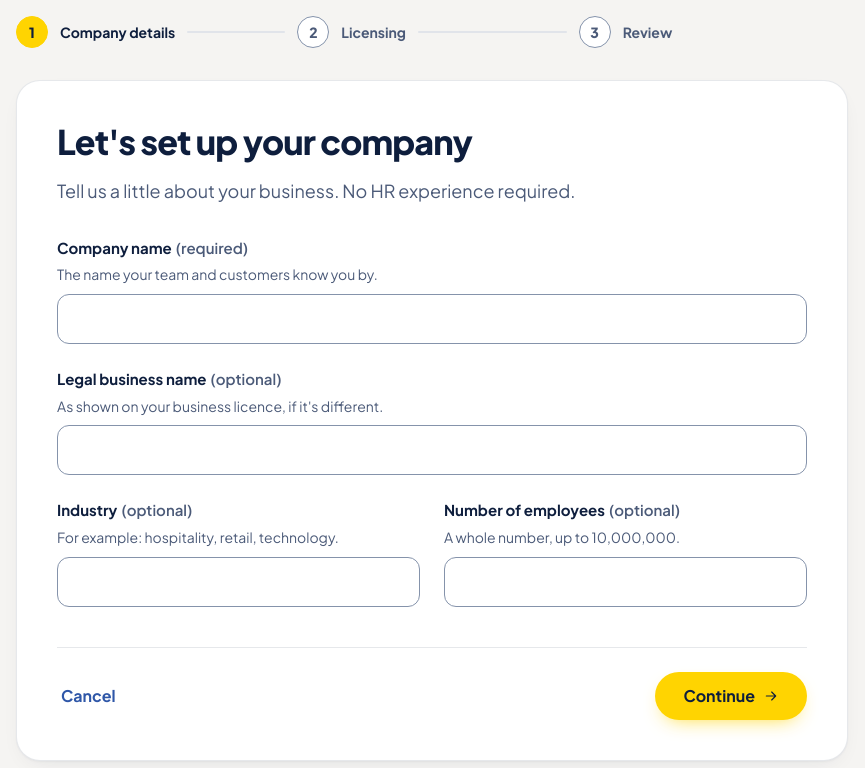
it: OnboardingWizard: licensing (step 2) › keeps the draft when going back and forward
In the field labelled "Company name(required)": (432, 319) [57,294,807,344], type "Gamma Trading"
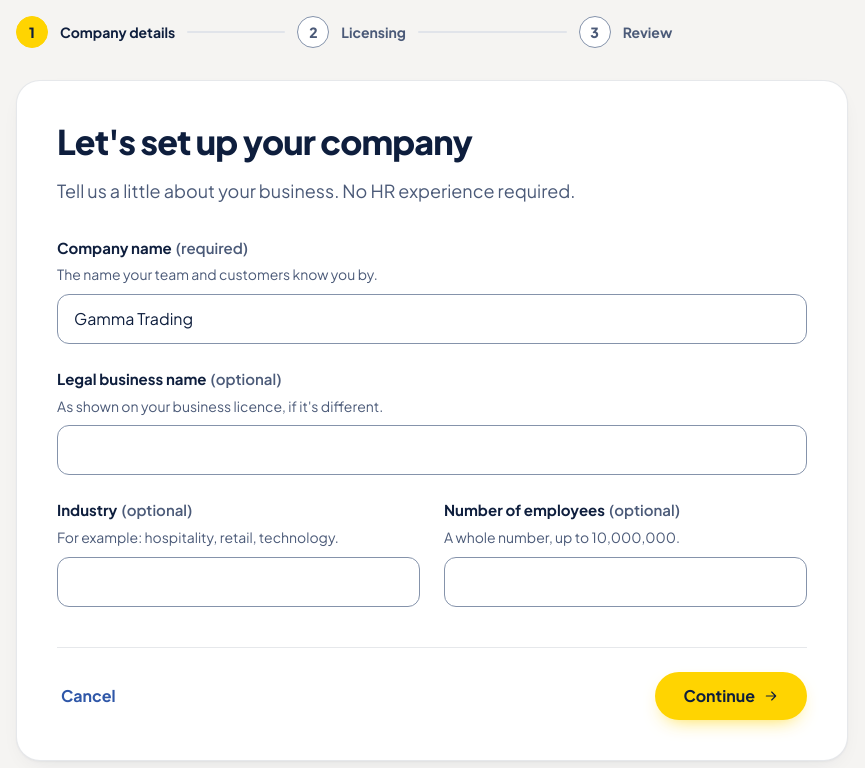
In the field labelled "Legal business name(optional)": (432, 450) [57,425,807,475], type "Gamma Trading FZ-LLC"
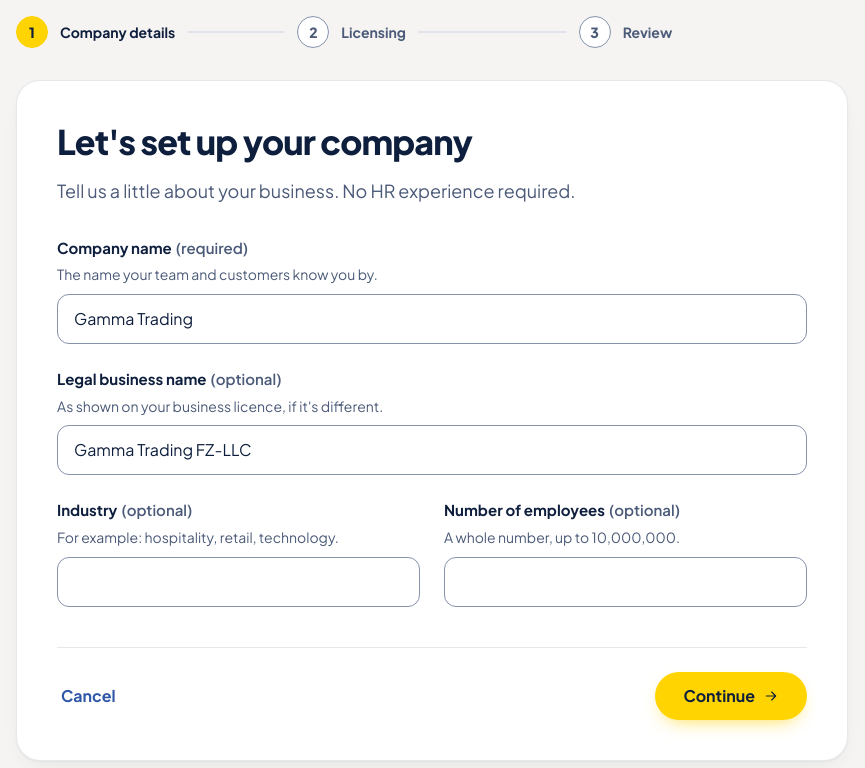
In the field labelled "Number of employees(optional)": (626, 582) [444,556,807,606], type "12"
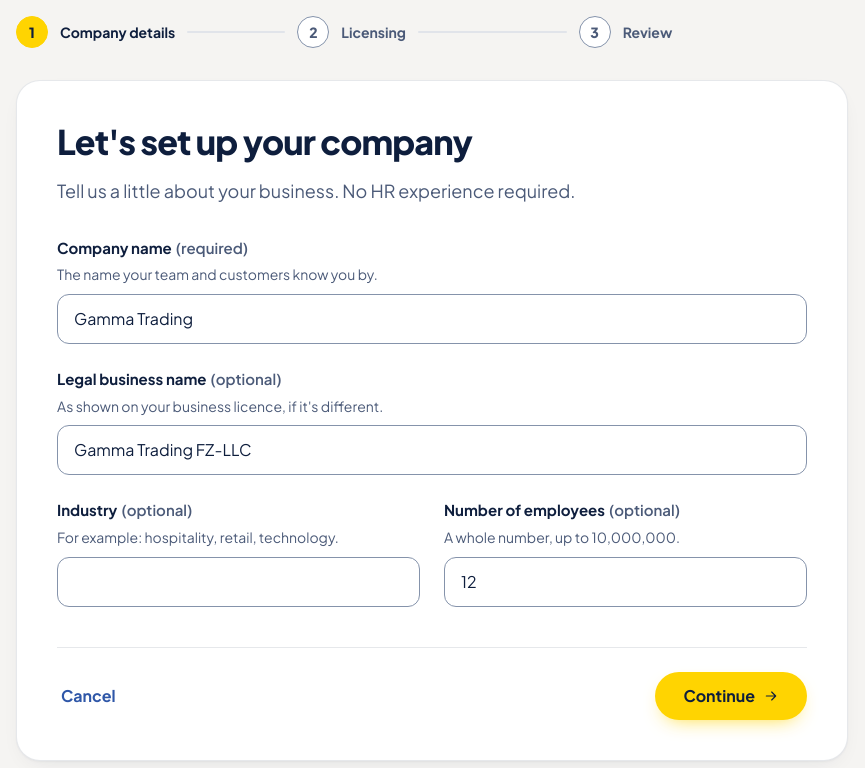
Click the button "Continue": (731, 696) [655,672,807,720]
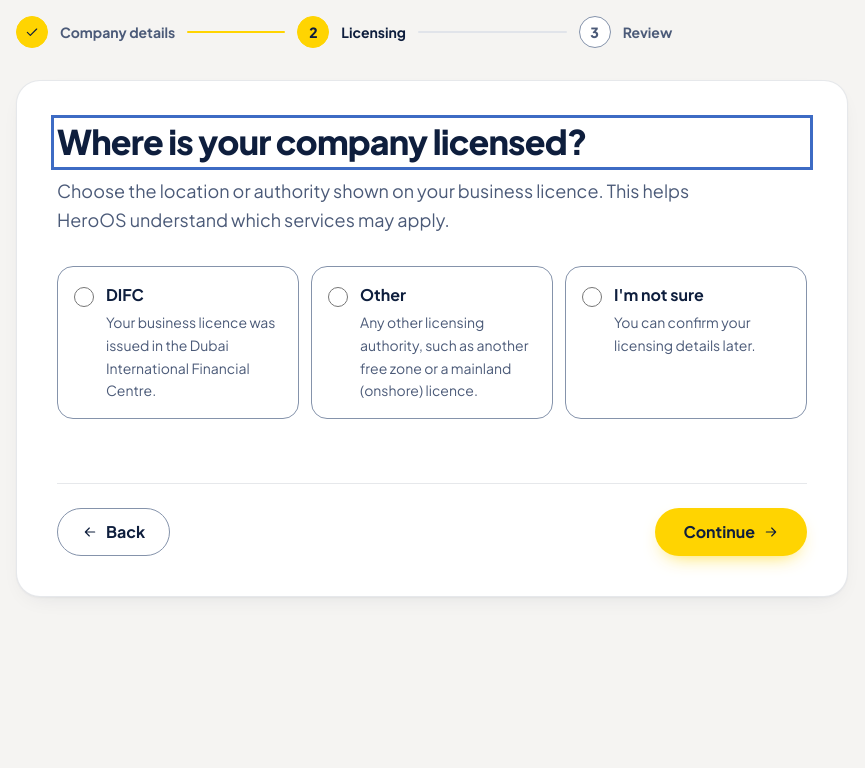
Click the button "Back": (114, 532) [57,508,170,556]
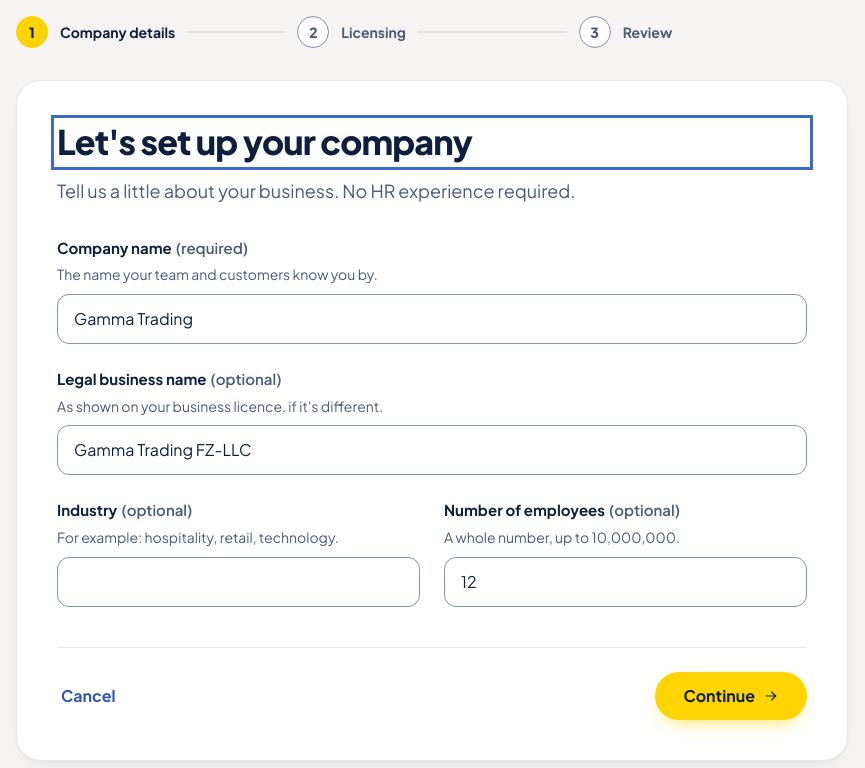
Expected: the field labelled "Company name(required)" holds "Gamma Trading", [57,294,807,344]
Expected: the field labelled "Number of employees(optional)" holds "12", [444,556,807,606]
